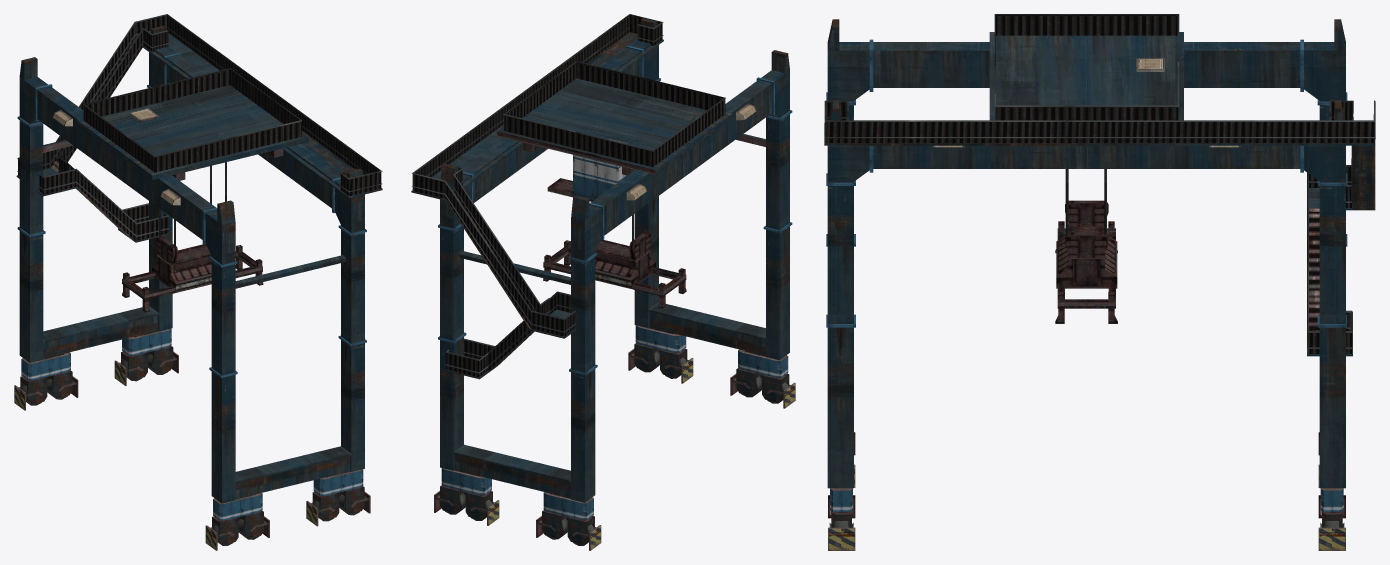
Rendered from ind-portal-crane.zfix-v1.lod0.glb.
The picture shows the model from 3 angles, left to right: view 1: azimuth 30°, elevation 25°; view 2: azimuth 150°, elevation 25°; view 3: azimuth 270°, elevation 25°; orthographic projection. The views are drawn at different scales.
Visible parts, largest first — view 1: Industrial_PortalCrane_2_Industrial_Walls_FLR_2_0, Industrial_PortalCrane_2_Industrial_Maskedstuff_1_0; view 2: Industrial_PortalCrane_2_Industrial_Walls_FLR_2_0, Industrial_PortalCrane_2_Industrial_Maskedstuff_1_0; view 3: Industrial_PortalCrane_2_Industrial_Walls_FLR_2_0, Industrial_PortalCrane_2_Industrial_Maskedstuff_1_0.
Part boxes in pixels (left/top/right/bottom): Industrial_PortalCrane_2_Industrial_Walls_FLR_2_0: left=14, top=14, right=382, bottom=550; Industrial_PortalCrane_2_Industrial_Maskedstuff_1_0: left=18, top=15, right=381, bottom=240; Industrial_PortalCrane_2_Industrial_Walls_FLR_2_0: left=411, top=14, right=795, bottom=550; Industrial_PortalCrane_2_Industrial_Maskedstuff_1_0: left=412, top=15, right=725, bottom=377; Industrial_PortalCrane_2_Industrial_Walls_FLR_2_0: left=824, top=14, right=1375, bottom=550; Industrial_PortalCrane_2_Industrial_Maskedstuff_1_0: left=825, top=15, right=1374, bottom=353.
Bounding box in the file's own units: 9.43 × 18.6 × 20.95.
Materials: 2 (2 with a texture image).
